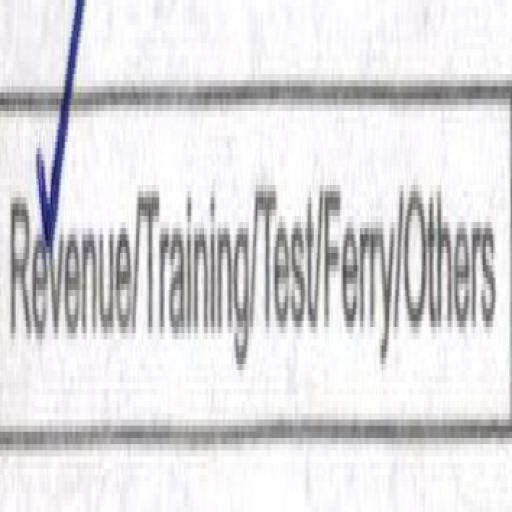check: (1, 13, 139, 433)
